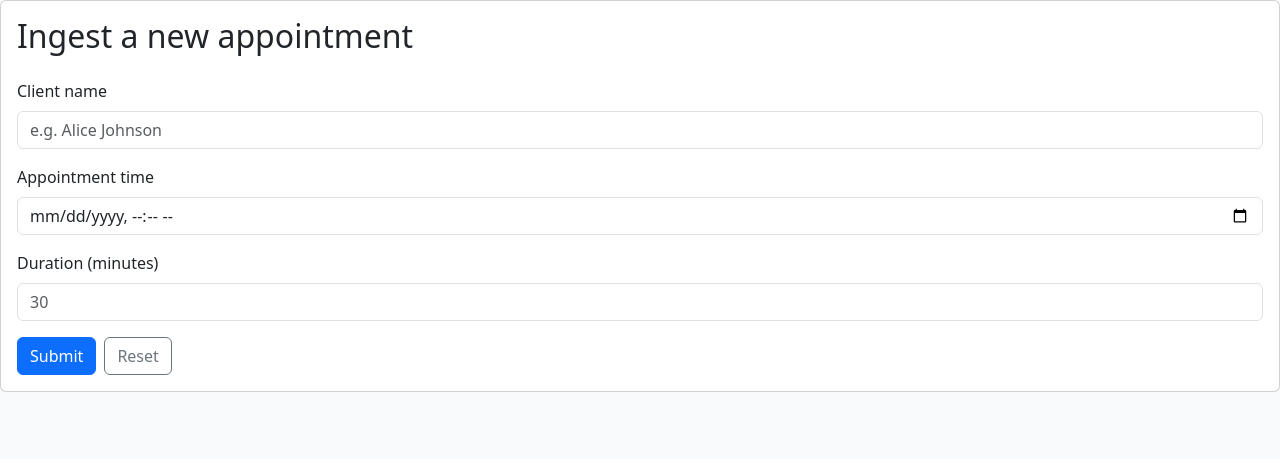
Test: IngestAppointmentForm › GIVEN empty form WHEN submit immediately THEN show validation errors and do not ingest
Click the button "Submit": point(57, 356) [17,337,96,375]
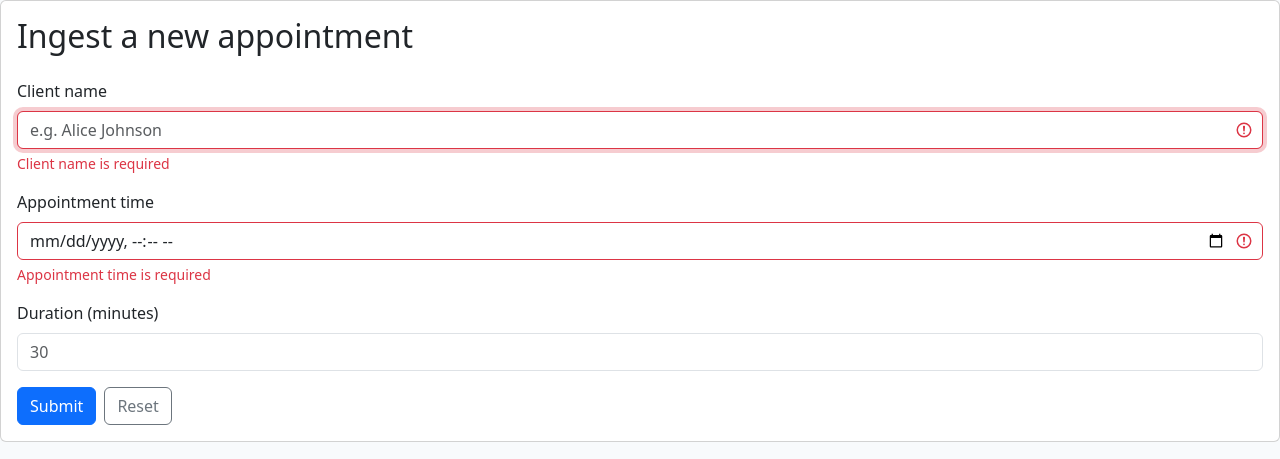
Expected: the text "Client name is required" is shown, [17,154,170,173]
Expected: the text "Appointment time is required" is shown, [17,265,211,284]
